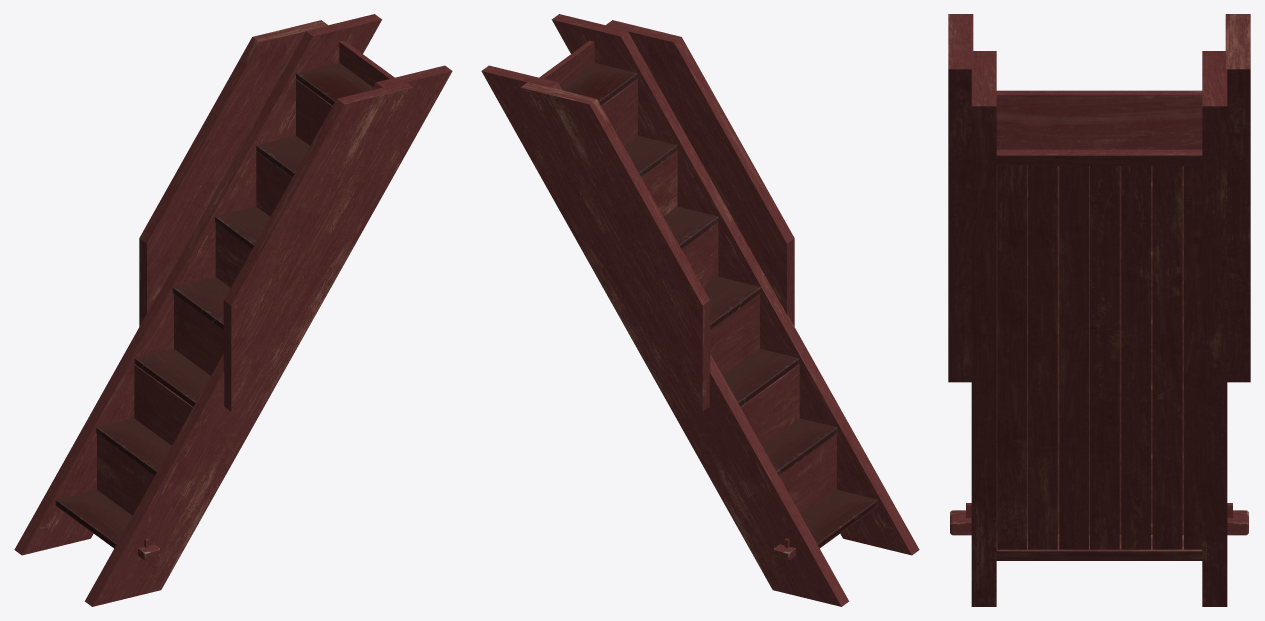
File: SM_Stair01c.fbx
3 views of the same model, side by side, from view 1: azimuth 30°, elevation 25°; view 2: azimuth 150°, elevation 25°; view 3: azimuth 270°, elevation 25° (orthographic). The views are drawn at different scales.
Parts seen in each view (by area): view 1: SM_Stair01c; view 2: SM_Stair01c; view 3: SM_Stair01c.
Part boxes in pixels (x1,y1,x2,y2): SM_Stair01c: (14,14,452,606); SM_Stair01c: (481,14,919,606); SM_Stair01c: (948,14,1250,606).
Bounding box in the file's own units: 292 × 130 × 347.
2 materials, 2 textured.
